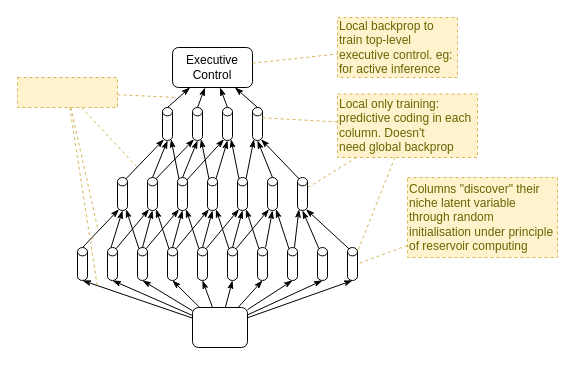
This 575x365 diagram has some shape labels left out. Here are the shapes that lost their labels. From the top down, the box of each, then its label:
(16, 76, 118, 108): Simple wiring without weights
(192, 306, 248, 348): Sense Input
